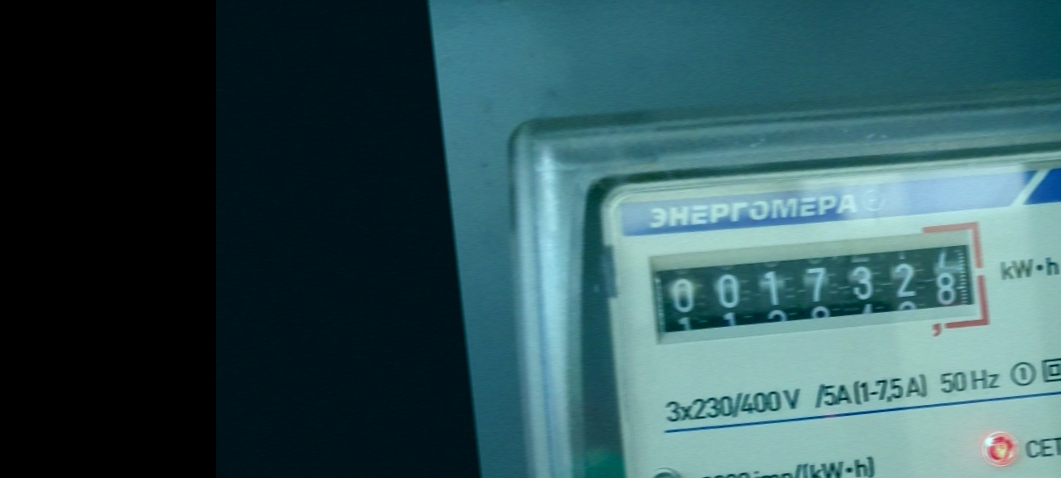0: (668, 273, 698, 315), (716, 269, 742, 310)
1: (760, 266, 783, 307)
2: (892, 259, 918, 298)
3: (850, 262, 876, 300)
7: (805, 263, 831, 304)
8: (934, 268, 957, 305)
screen: (637, 215, 1001, 369)
